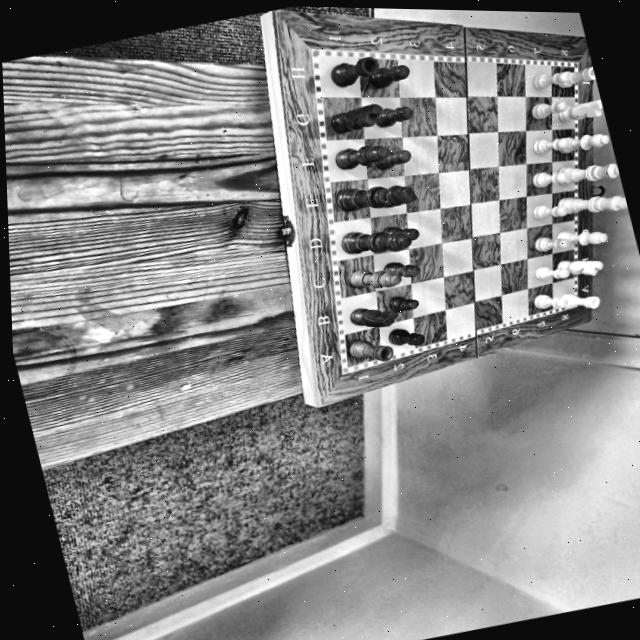black-bishop: (328, 132, 394, 179), (340, 255, 405, 297)
black-king: (329, 167, 422, 222)
black-knight: (324, 93, 387, 141), (347, 298, 401, 335)
black-pawn: (378, 216, 428, 249), (380, 252, 425, 285), (371, 99, 420, 129), (386, 319, 430, 352), (368, 57, 414, 85), (383, 288, 421, 316), (371, 145, 410, 168)
black-queen: (337, 213, 414, 266)
black-rook: (340, 327, 398, 373), (322, 47, 382, 90)
white-bishop: (555, 219, 611, 252), (555, 125, 611, 157)
white-king: (554, 179, 629, 225)
white-knight: (554, 247, 605, 282), (555, 93, 606, 127)
white-pawn: (529, 227, 572, 256), (529, 194, 570, 224), (530, 162, 572, 190), (527, 130, 569, 157), (528, 94, 570, 121), (530, 286, 570, 314), (528, 65, 568, 92), (532, 259, 572, 284)
white-queen: (549, 151, 621, 191)
white-rook: (554, 61, 596, 88), (562, 286, 602, 314)
